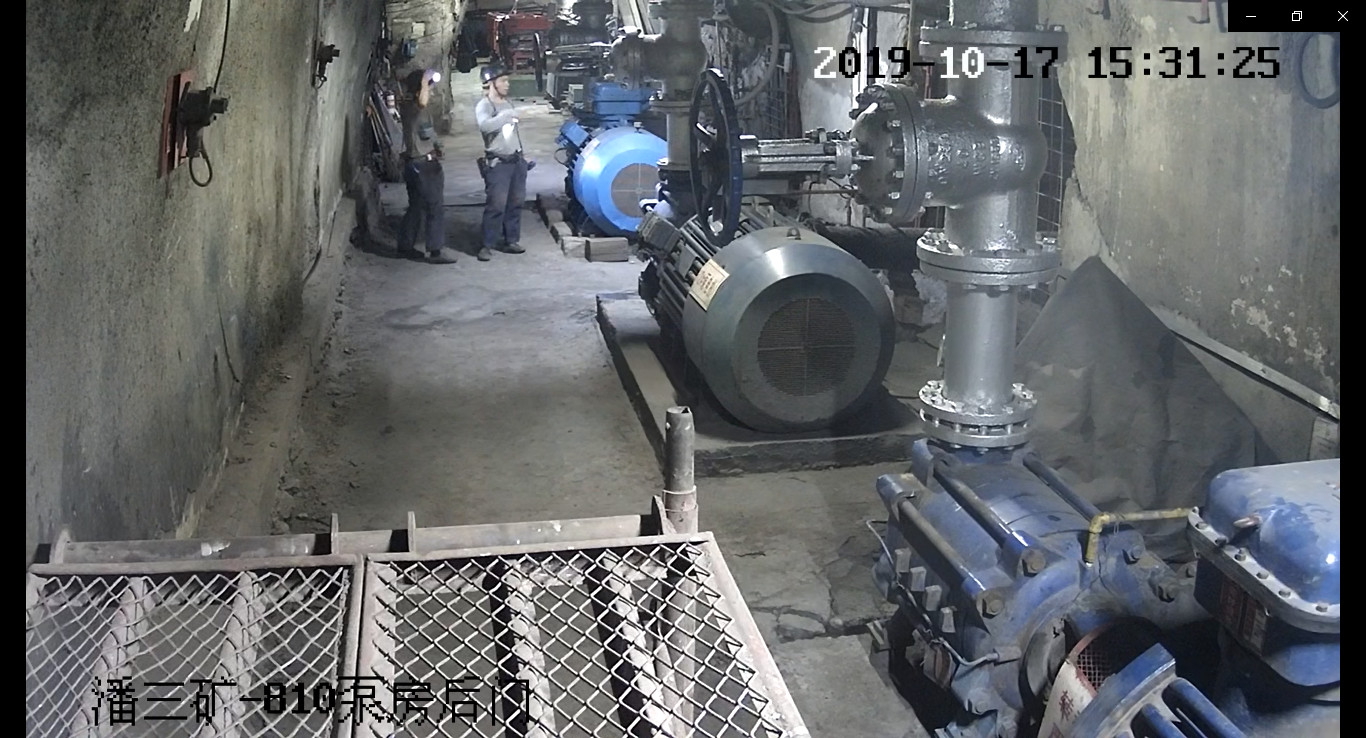helmet: (404, 67, 442, 91), (481, 63, 512, 83)
